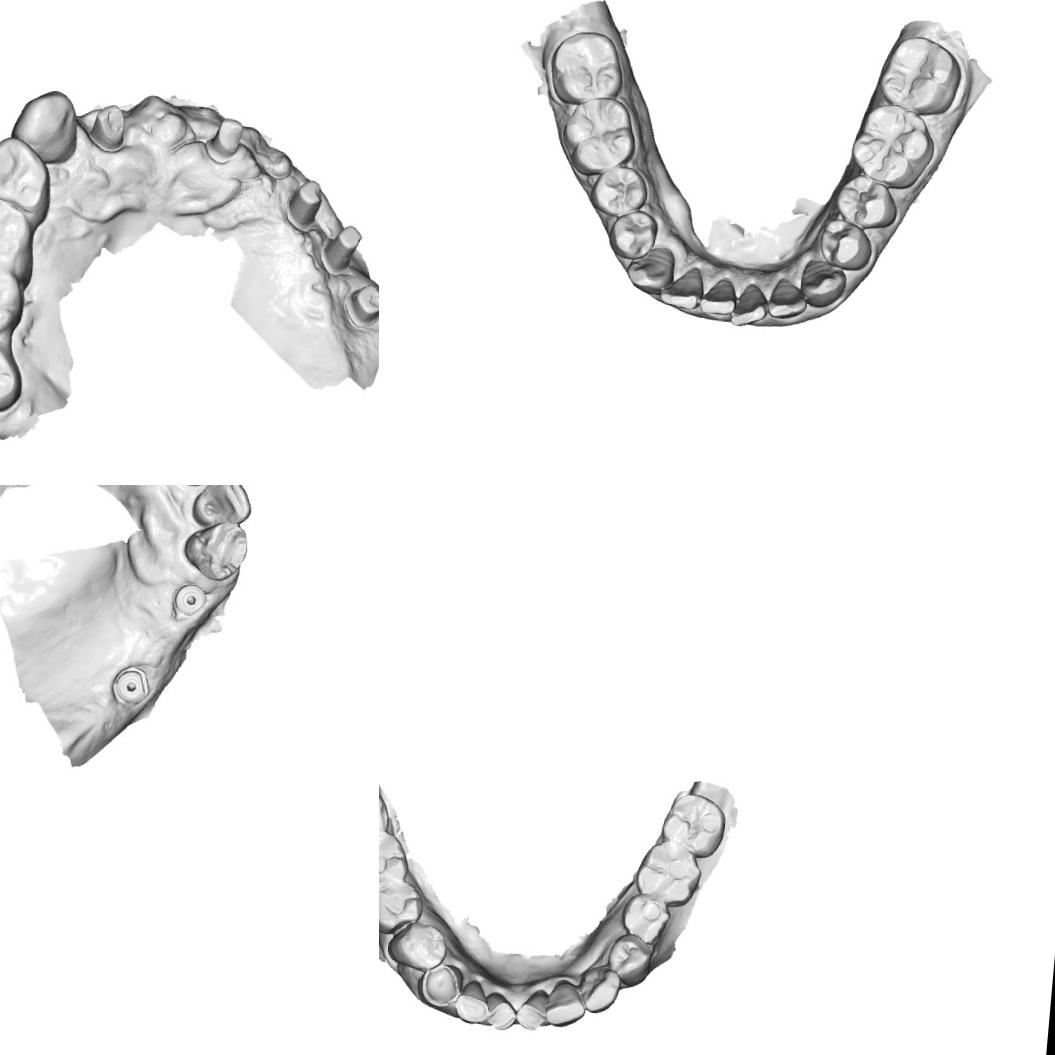abutment: (84, 95, 132, 158), (320, 221, 366, 276), (282, 174, 326, 231), (204, 111, 250, 165), (340, 278, 379, 331)
canine: (7, 84, 82, 168), (177, 520, 251, 582), (616, 238, 680, 300), (796, 256, 848, 312), (416, 960, 468, 1016), (572, 962, 624, 1016)
implant: (108, 662, 156, 712), (172, 579, 210, 622)
incisor: (193, 485, 253, 531), (726, 272, 772, 330), (656, 261, 706, 314), (542, 977, 586, 1032), (694, 272, 740, 323), (764, 272, 810, 322), (512, 982, 552, 1036), (452, 978, 496, 1027), (482, 988, 517, 1034)
molar: (844, 100, 938, 192), (874, 30, 966, 116), (556, 92, 642, 180), (545, 24, 628, 109), (655, 787, 728, 861), (630, 837, 704, 910), (379, 827, 417, 899), (0, 250, 30, 341), (0, 328, 27, 416)
premolar: (0, 131, 58, 220), (832, 170, 900, 234), (586, 160, 652, 219), (384, 917, 449, 974), (815, 215, 875, 274), (602, 928, 660, 988), (604, 205, 660, 262), (618, 890, 674, 946), (379, 875, 424, 938), (0, 191, 37, 267)
